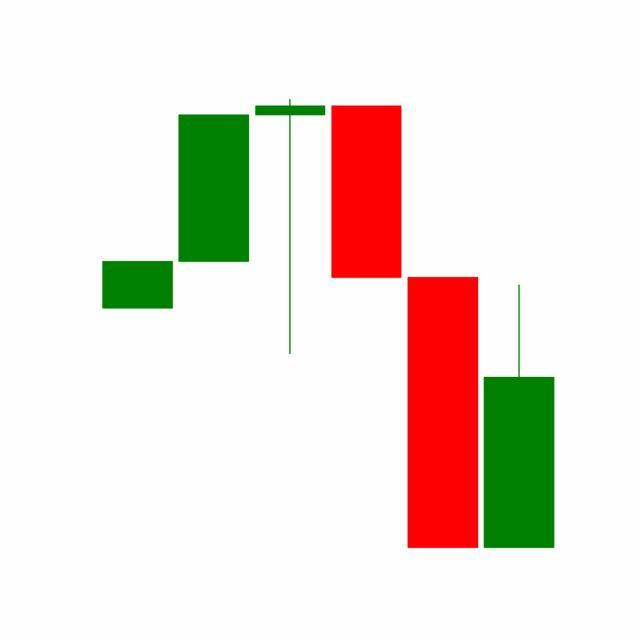Marubozu: (404, 274, 482, 551)
